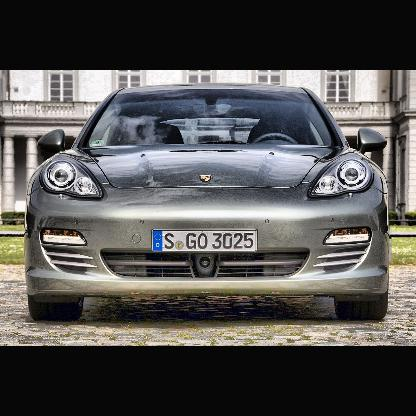Porsche Panamera Sedan 2012: (28, 84, 391, 319)
